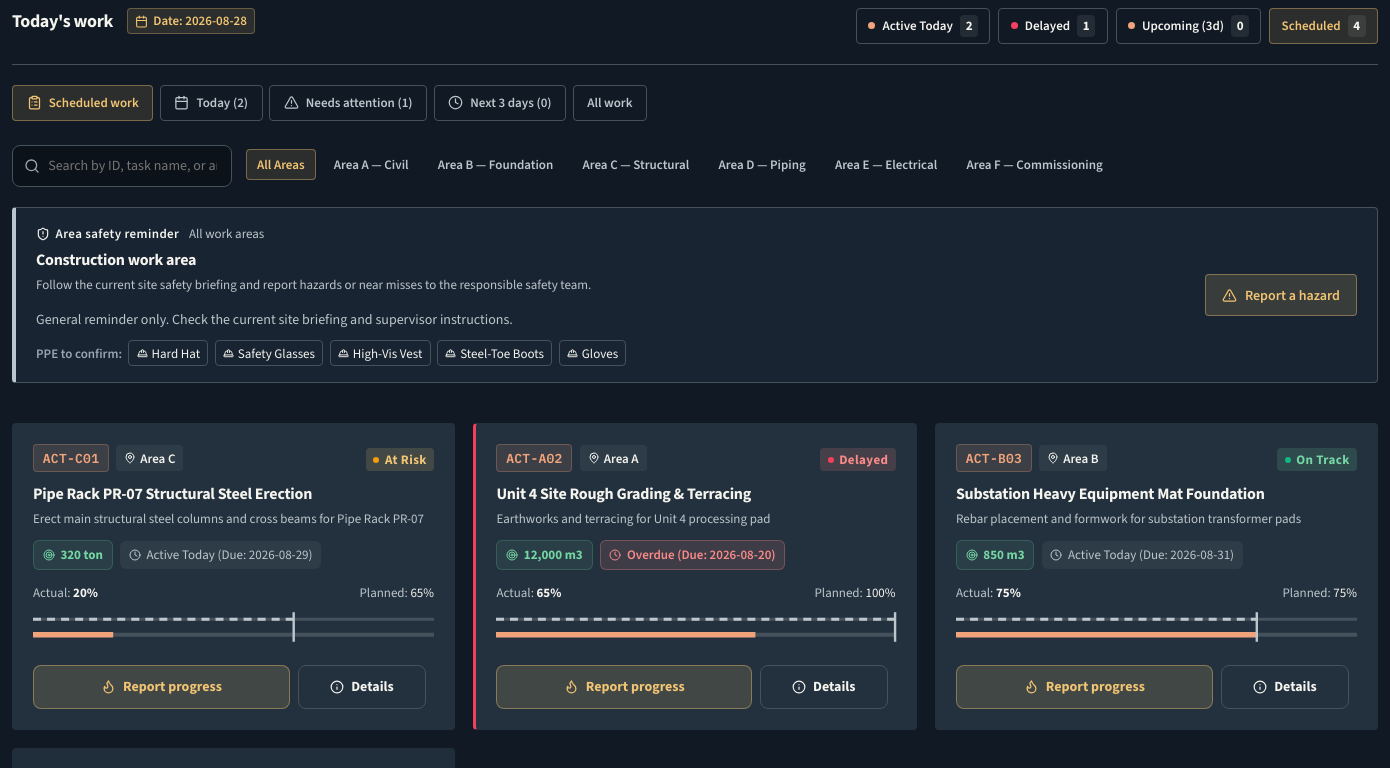
Scenario: TodayWorkView Component (Pass 31) › 2. Filters operational tasks when a work area chip is clicked
Check: the text "ACT-C01" is shown, box top-left (33, 444), bottom-right (109, 472)
Click "Area C — Structural" chip
Click the button "Area C — Structural": [636, 165] box top-left (571, 149), bottom-right (701, 180)
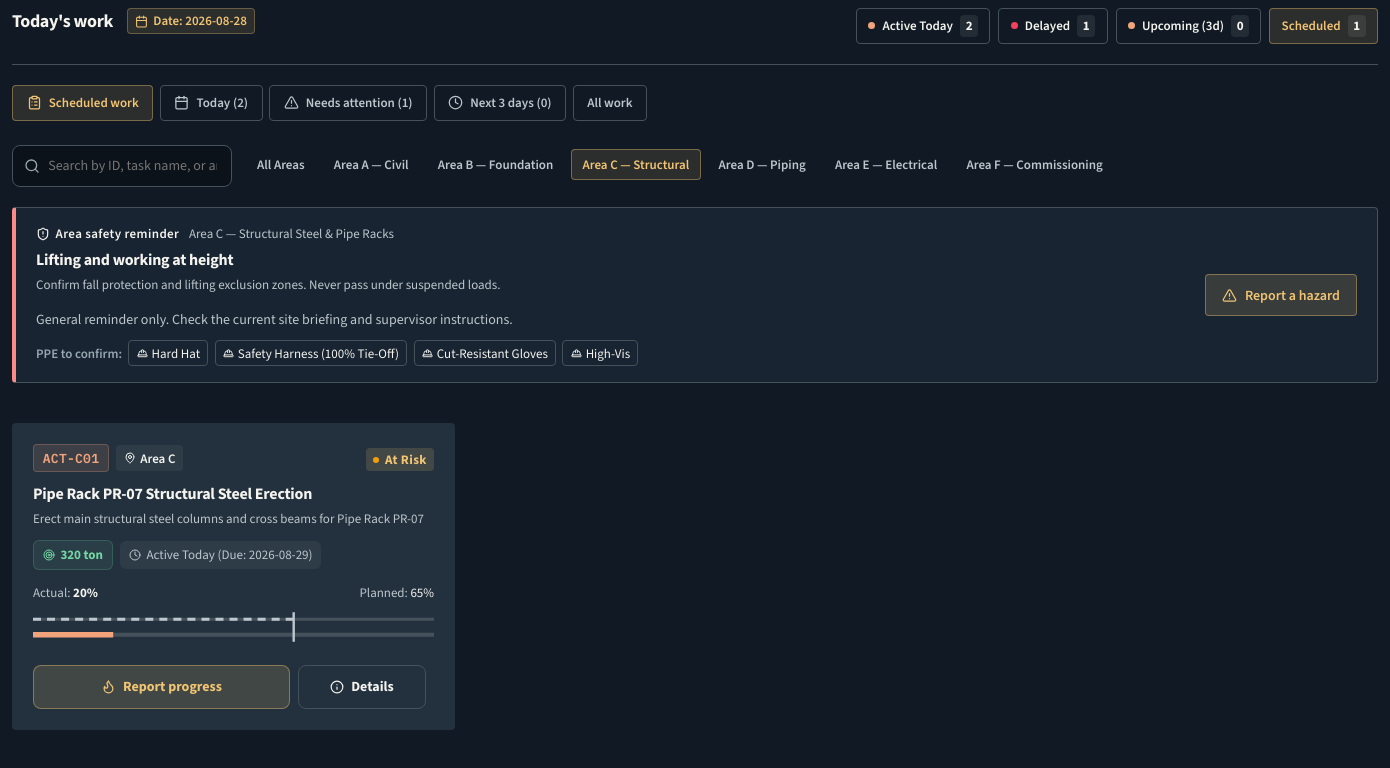
Check: the text "ACT-C01" is shown, box top-left (33, 444), bottom-right (109, 472)
Check: the text "ACT-A02" is gone
Check: the text "ACT-B03" is gone
